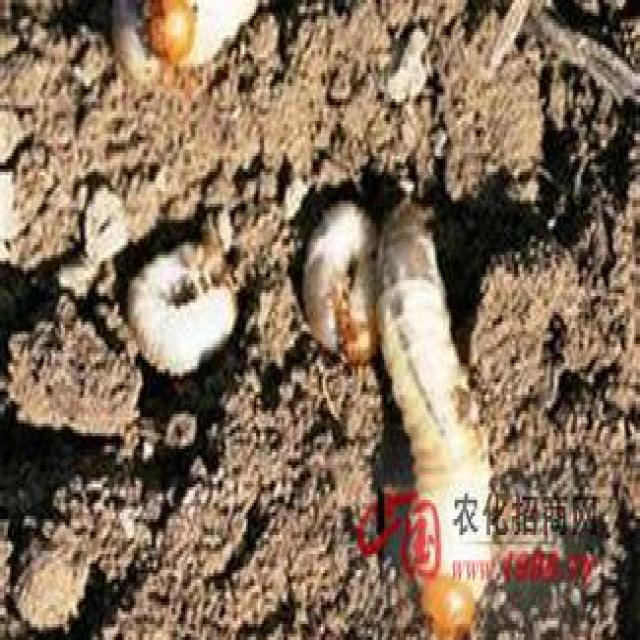Grub-Adult-: (372, 197, 509, 629), (120, 222, 246, 384), (286, 193, 394, 382)
